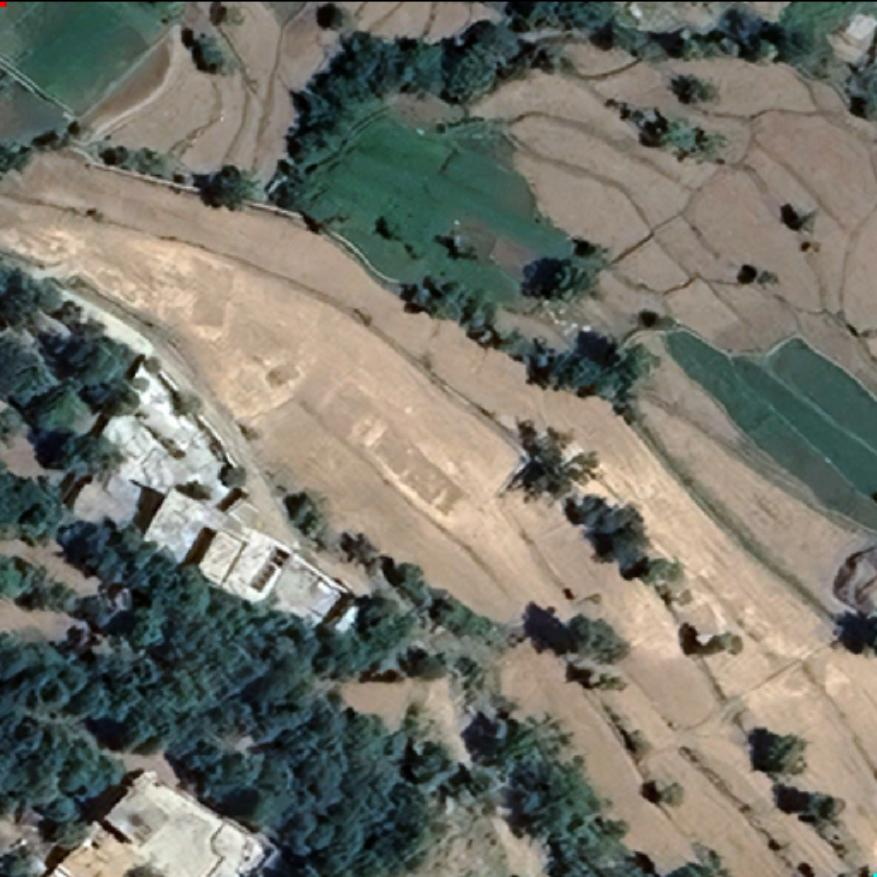Solarpanel: (244, 542, 294, 596)
